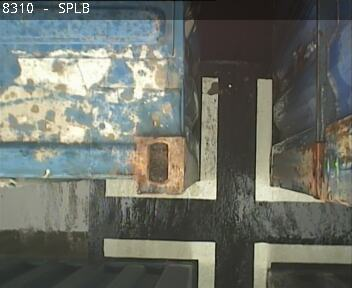groundmarker_1: (106, 80, 320, 202)
